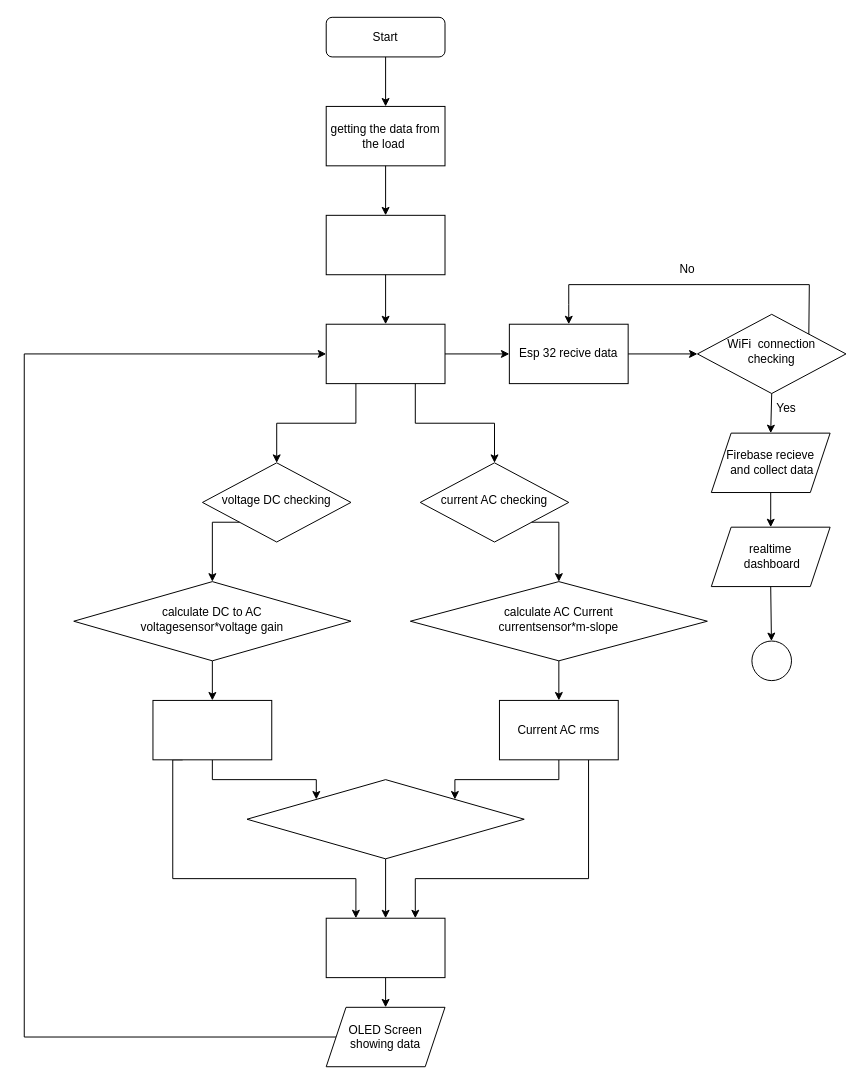
Image size: 863x1084. Some labels were removed from this diagram. Here are the shapes that lost their labels. From the top down, the centre of each, then its label:
the point at 385,244: current sensor and voltage sensor measurement
the point at 385,353: Arduino receive data
the point at 771,660: End
the point at 212,729: Voltage AC rms
the point at 385,819: Apparent Power calculating Apparent power = Vrms*Irms
the point at 385,947: Voltage, current, Apparent Power Result
